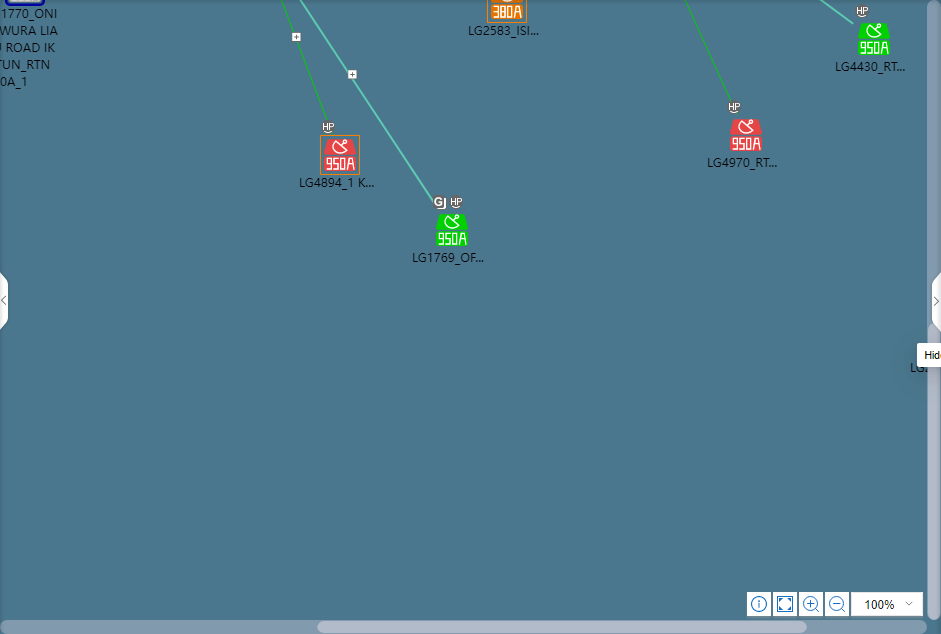Link_Blue: (299, 0, 433, 204), (818, 0, 854, 25)
Link_Green: (280, 0, 329, 120), (683, 0, 732, 102)
RTN_Green: (435, 214, 466, 246), (857, 23, 888, 54)
RTN_Orange: (489, 0, 524, 21)
RTN_Red: (321, 138, 356, 172), (730, 119, 761, 151)
